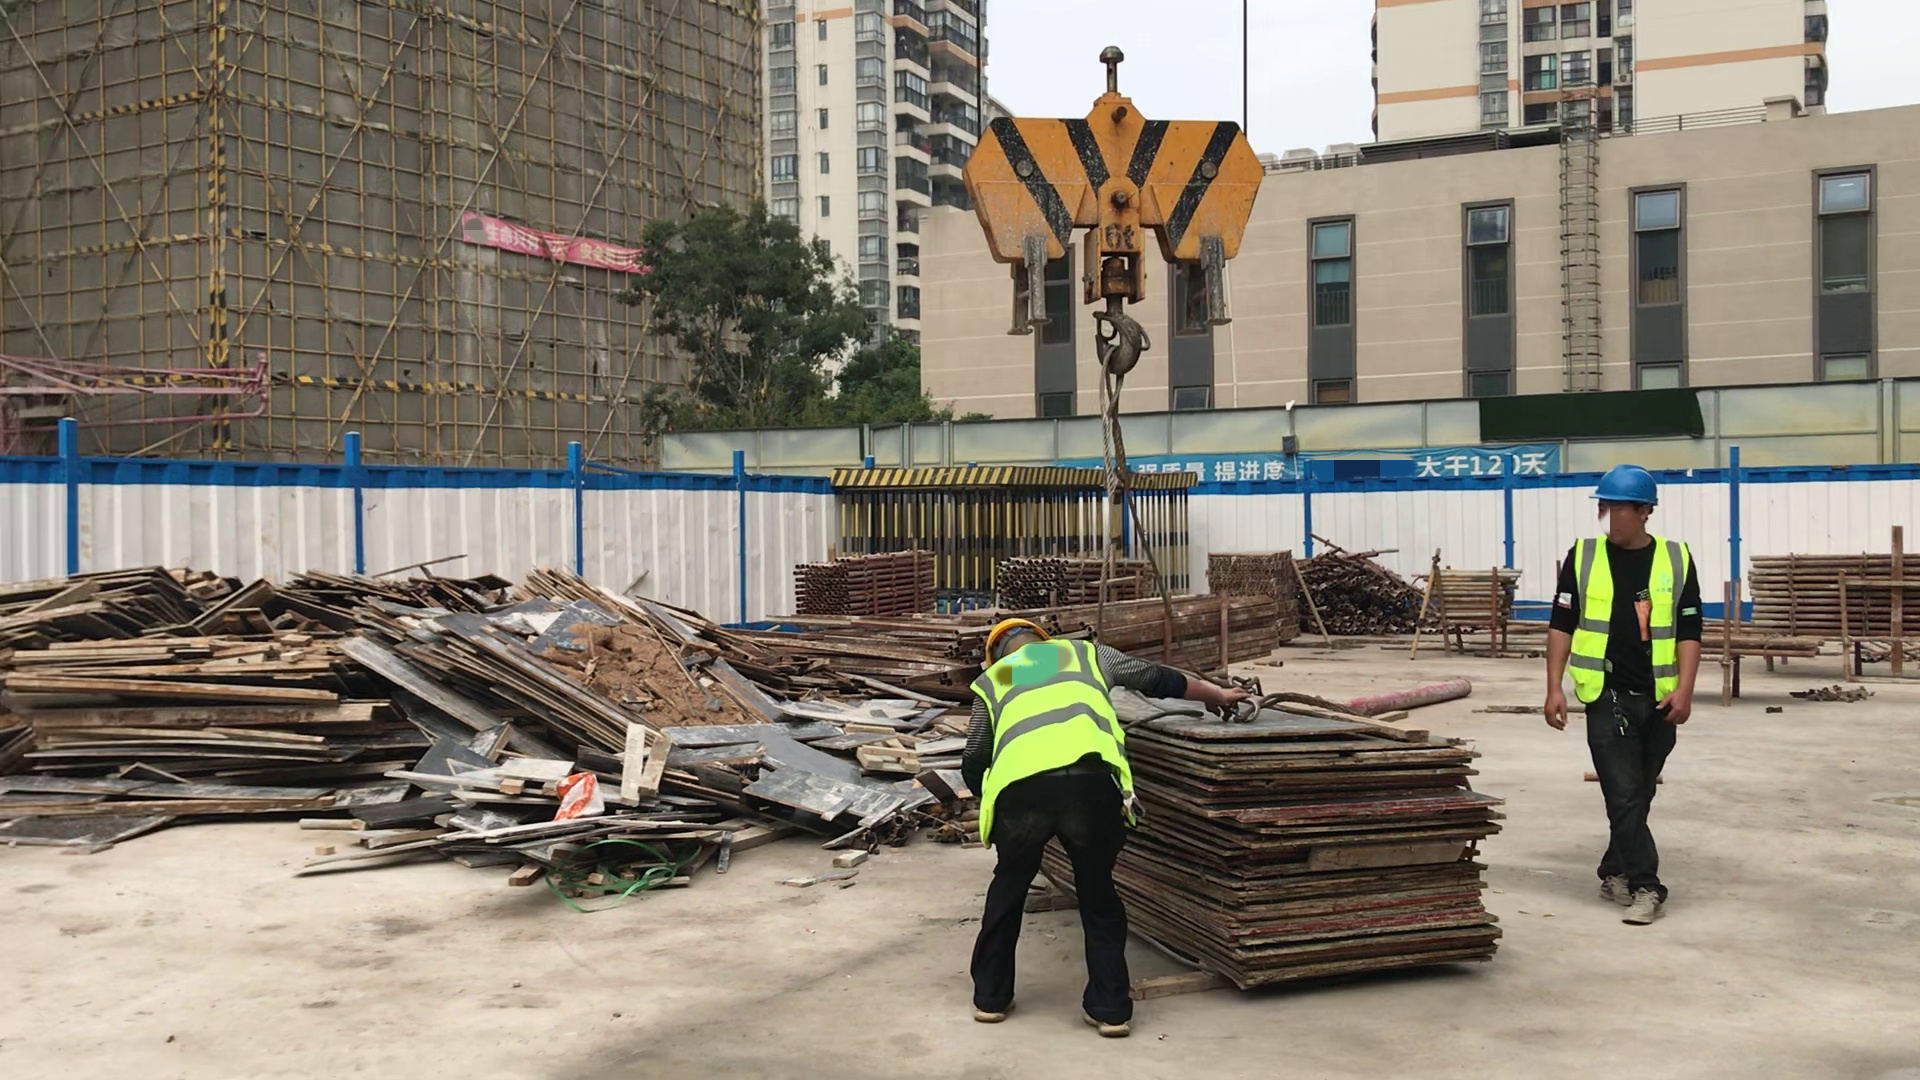board: (1109, 684, 1506, 990)
helmet: (1588, 462, 1661, 509), (987, 617, 1047, 654)
hook: (954, 91, 1272, 373)
person: (964, 616, 1244, 1041), (1526, 465, 1704, 931)
scaffold: (1752, 557, 1914, 637), (795, 553, 932, 607), (996, 556, 1148, 604), (1211, 553, 1288, 602), (1432, 568, 1507, 620)
slogan: (1048, 445, 1557, 479), (459, 209, 667, 282)
vest: (970, 638, 1144, 842), (1569, 534, 1683, 705)
